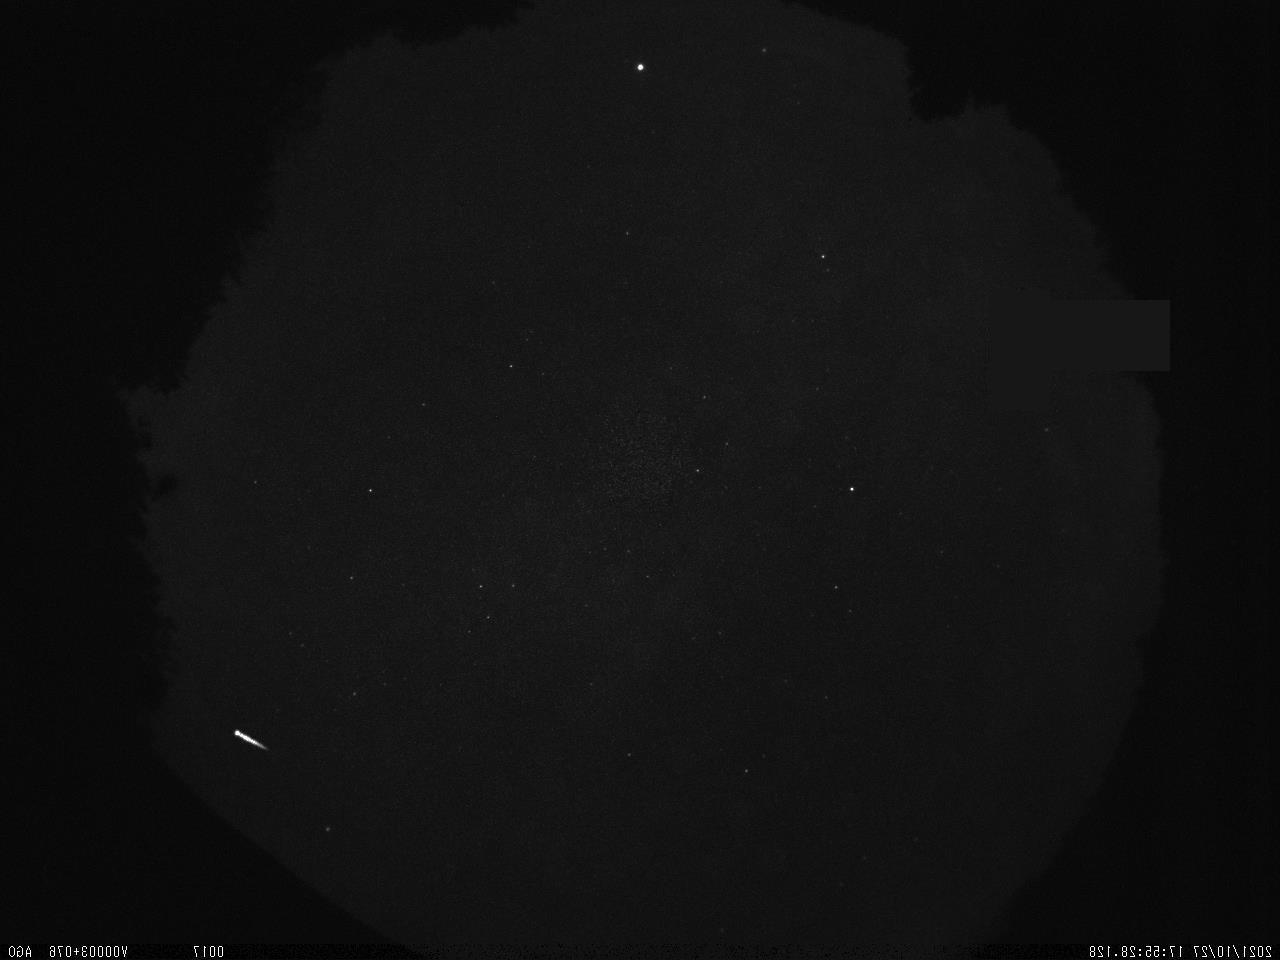meteor: (220, 712, 286, 764)
